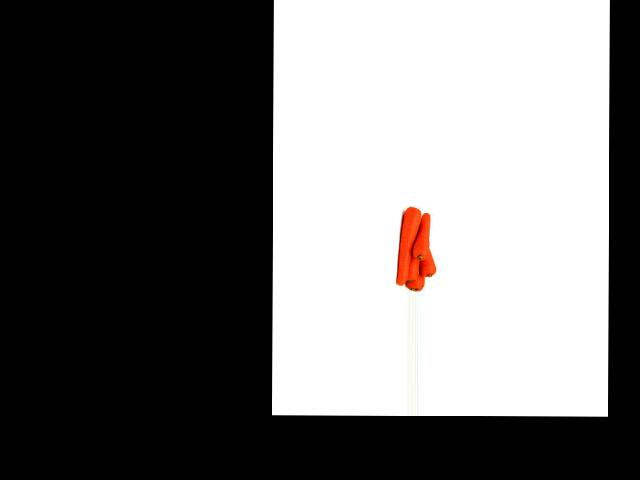carrot: (418, 245, 435, 278)
